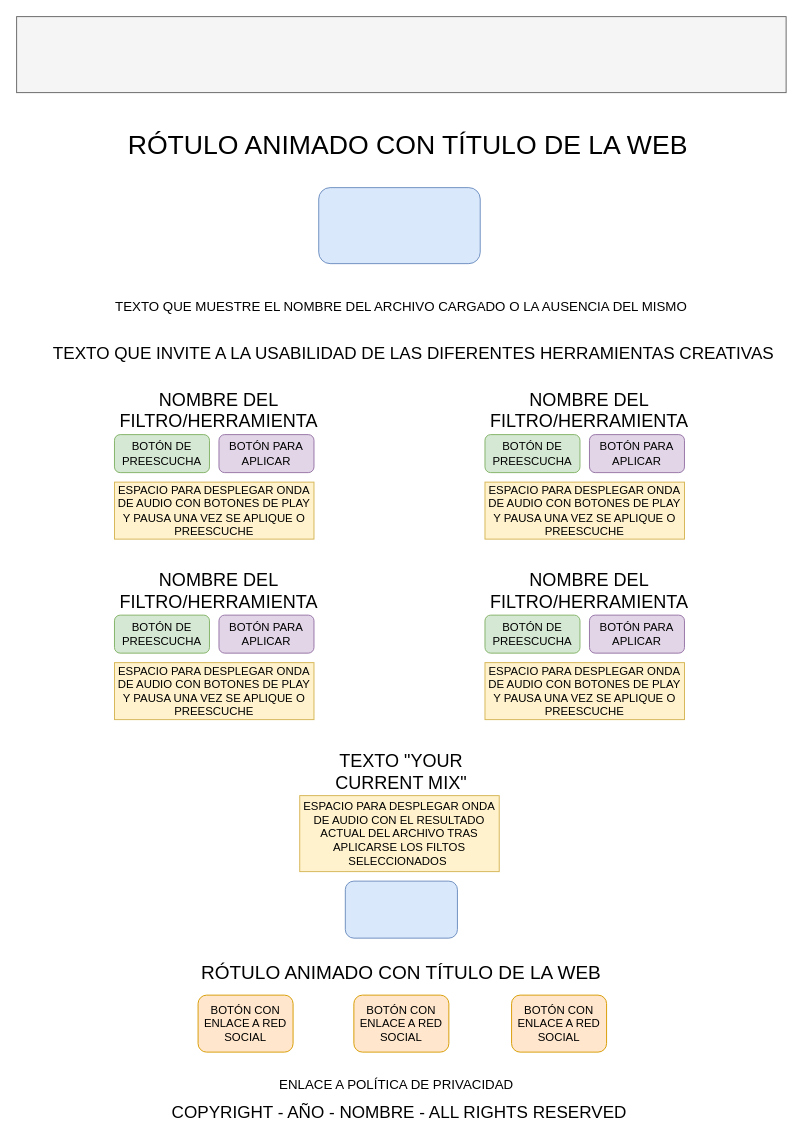
This 810x1144 diagram has some shape labels left out. The centre of each missing label's shape, as x and y in pixels:
"BOTÓN DE DESCARGA DEL RESULTADO FINAL" goes at point (400, 909).
"BOTÓN DE SUBIDA DE ARCHIVO DE AUDIO" goes at point (399, 225).
"NAV BAR" goes at point (401, 54).
